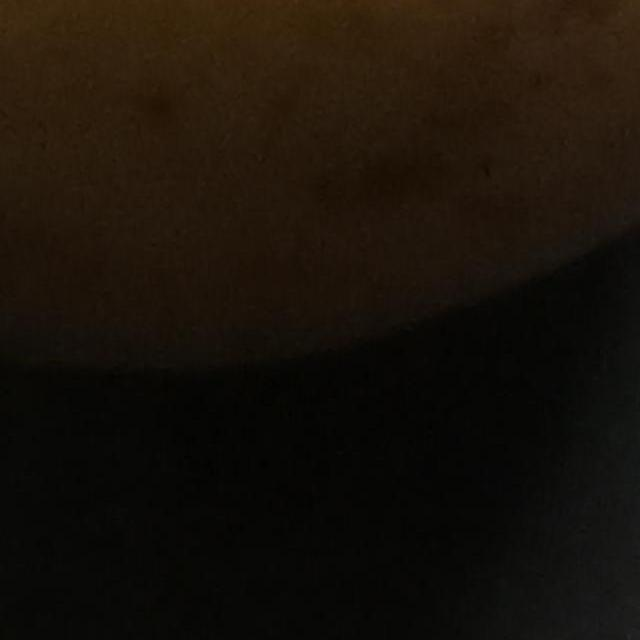potato: (0, 0, 640, 521)
